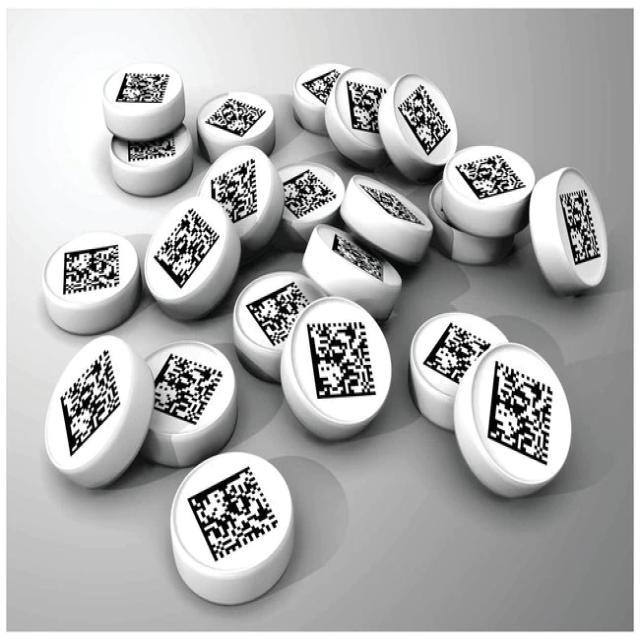datamatrix: (182, 462, 282, 563), (483, 353, 558, 472), (51, 344, 125, 460), (150, 339, 228, 435), (301, 318, 382, 402), (150, 205, 224, 288), (396, 77, 456, 163), (422, 313, 492, 384), (452, 147, 530, 205), (245, 276, 308, 346), (558, 182, 606, 270), (56, 241, 127, 299), (357, 175, 428, 233), (210, 146, 262, 225), (278, 163, 339, 223), (110, 60, 176, 111), (328, 227, 388, 283), (202, 92, 267, 140), (342, 78, 389, 138), (120, 133, 181, 163), (296, 65, 344, 103)
